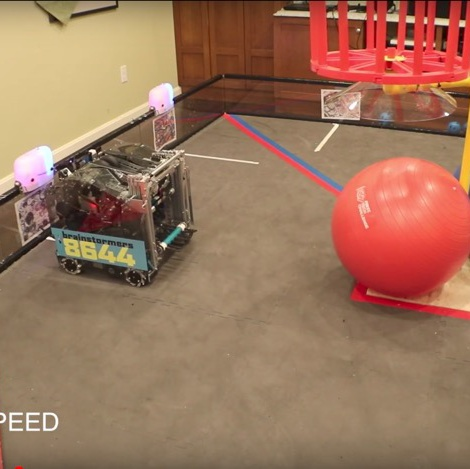blueball: (446, 119, 462, 135)
robot: (43, 137, 202, 289)
yogaball: (328, 151, 470, 303)
